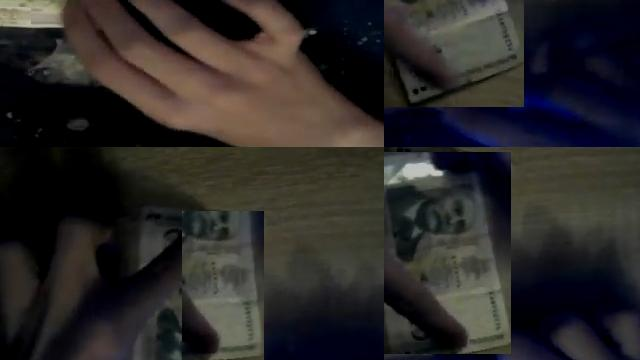10leva: (384, 152, 511, 354), (384, 0, 524, 107), (182, 211, 264, 360), (0, 7, 31, 25)
